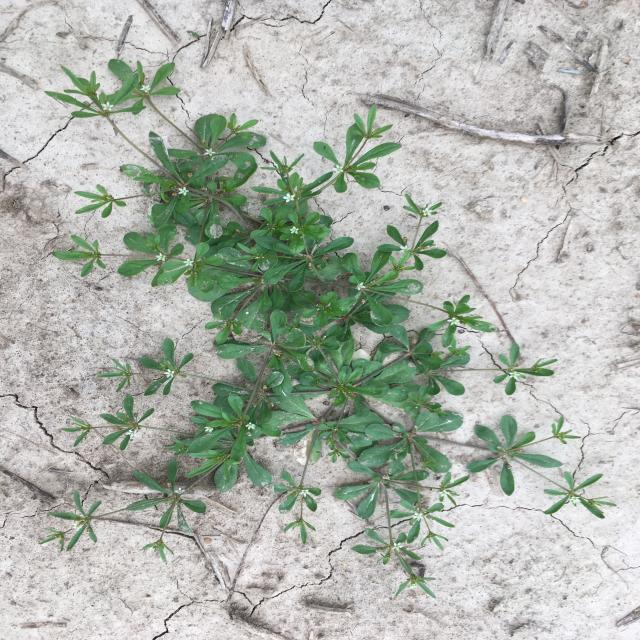Carpetweed: (39, 59, 616, 600)
